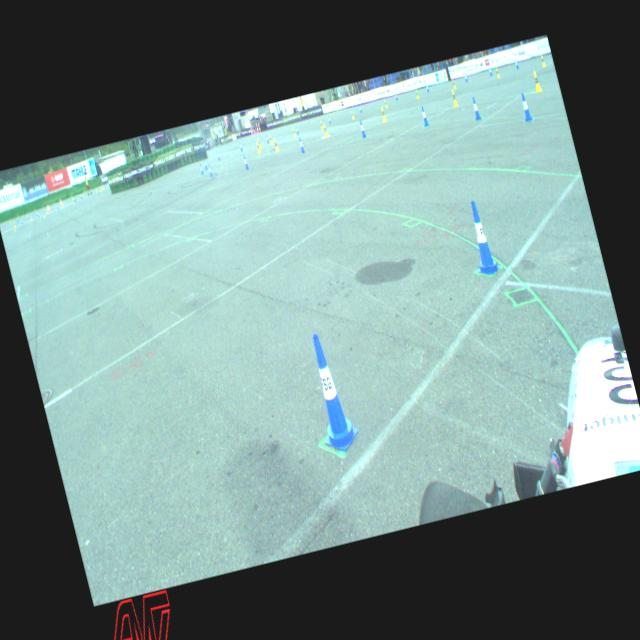blue_cone: (299, 328, 362, 454), (460, 198, 501, 276), (518, 92, 532, 121), (470, 96, 481, 119), (419, 105, 428, 125), (358, 120, 366, 136), (298, 137, 304, 152), (242, 154, 248, 168), (199, 163, 204, 174), (208, 163, 212, 176), (463, 72, 468, 81), (514, 59, 519, 68), (203, 158, 207, 168), (216, 151, 220, 160), (488, 66, 492, 75), (294, 125, 298, 134), (358, 105, 362, 112), (394, 92, 397, 100), (239, 142, 242, 150), (328, 115, 330, 124), (426, 83, 428, 91), (266, 135, 268, 142)
yellow_cone: (531, 70, 542, 91), (450, 89, 458, 105), (379, 106, 386, 121), (322, 123, 328, 136), (272, 138, 278, 151), (540, 54, 546, 66), (256, 137, 262, 148), (495, 67, 500, 77), (256, 140, 260, 152), (268, 134, 272, 144), (383, 99, 388, 107), (292, 128, 296, 137), (318, 120, 322, 129), (452, 79, 456, 88), (414, 90, 418, 98), (350, 111, 354, 119)
